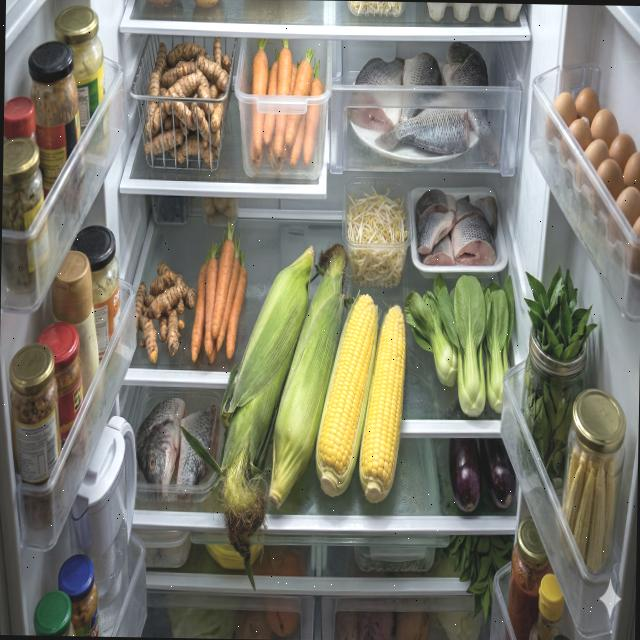carrot: (248, 46, 324, 168), (190, 237, 248, 366)
corn: (175, 240, 408, 595), (562, 454, 616, 573)
curry_leaves: (520, 264, 600, 496)
egg: (542, 84, 640, 273)
eggplant: (447, 436, 517, 514)
fish: (350, 39, 500, 168), (133, 396, 220, 504), (414, 187, 498, 266)
pakchoy: (402, 272, 516, 418)
turmeric: (144, 36, 231, 168), (134, 260, 196, 364)
